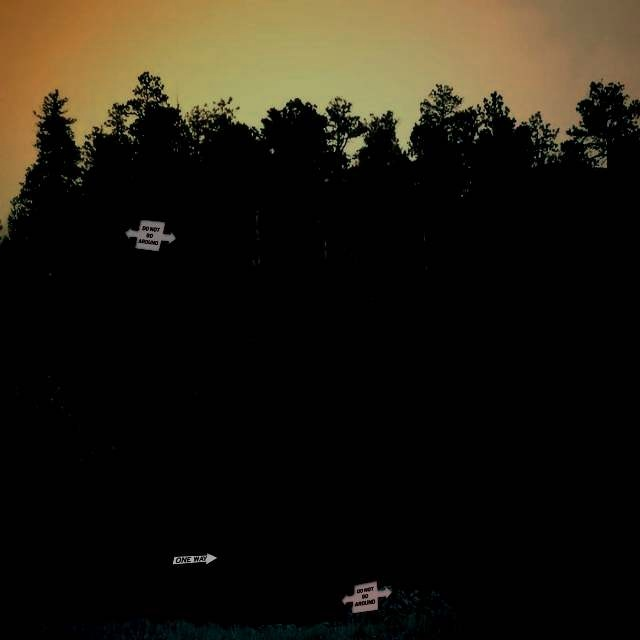DO_NOT_GO_AROUND: (340, 580, 393, 614), (124, 219, 177, 252)
ONE_WAY_ right: (167, 552, 220, 569)
